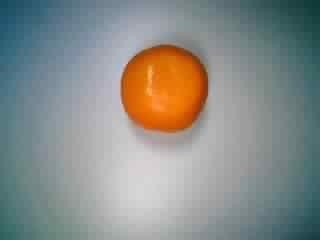orange: (116, 39, 214, 137)
